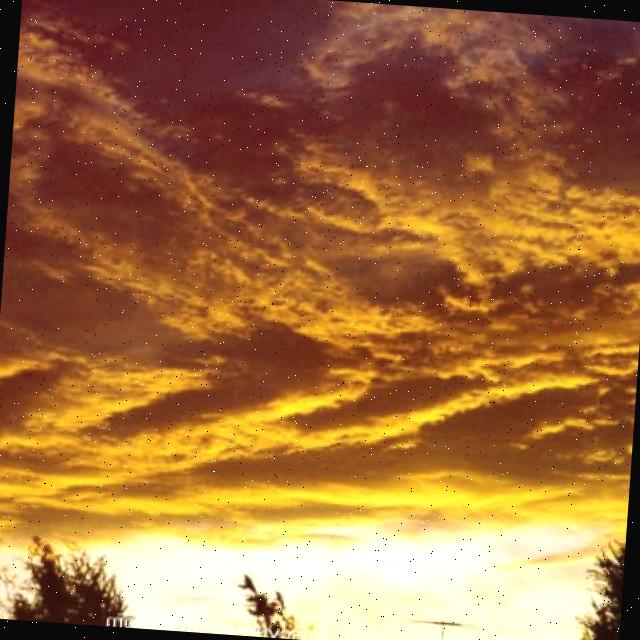As: (1, 22, 640, 413)
